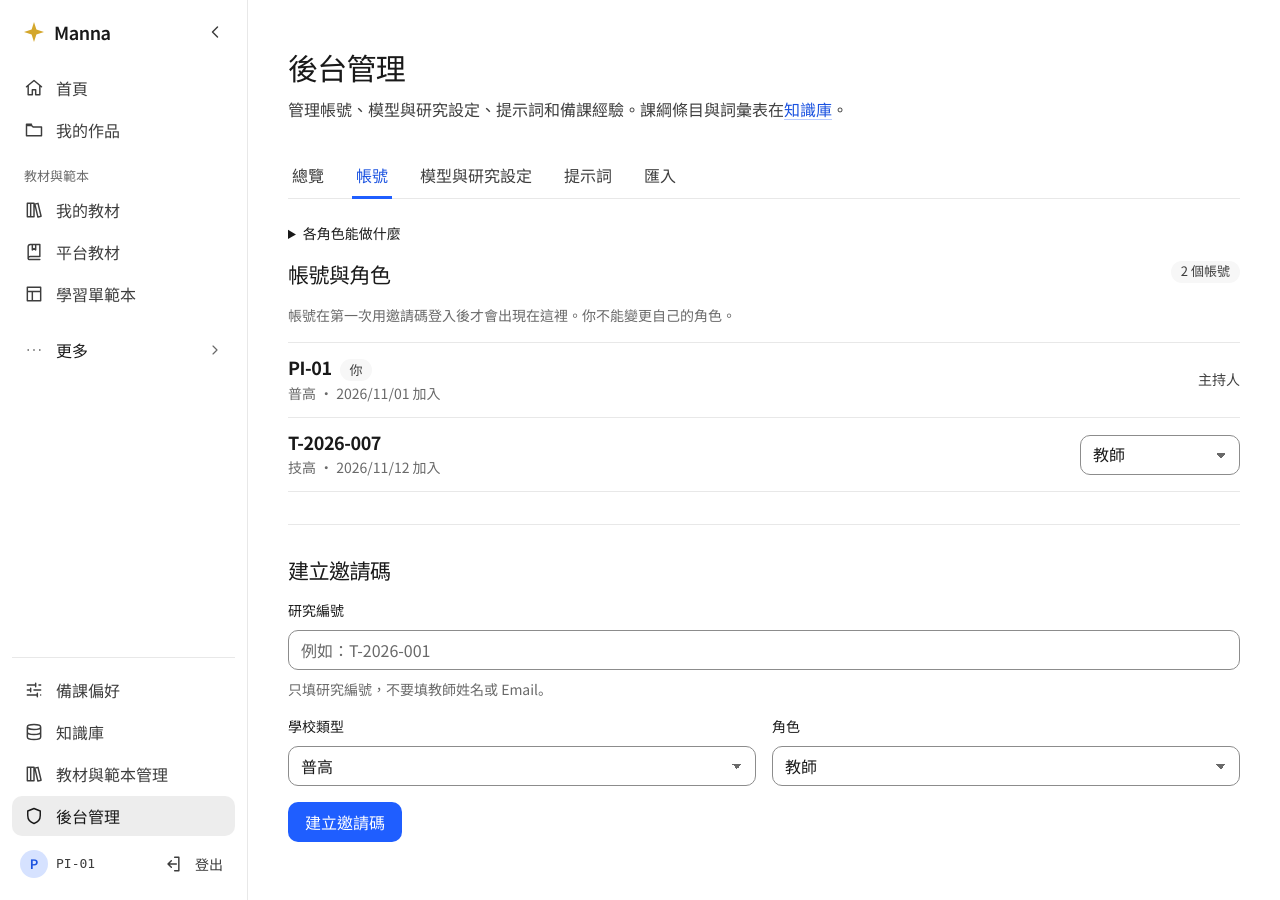
帳號與角色 (pi) › shows the server's refusal and keeps the old role
The width and height of the screenshot is (1280, 900).
Select "主持人" in the dropdown named "T-2026-007 的角色" at [1160, 455], box x1=1080 y1=435 x2=1240 y2=475
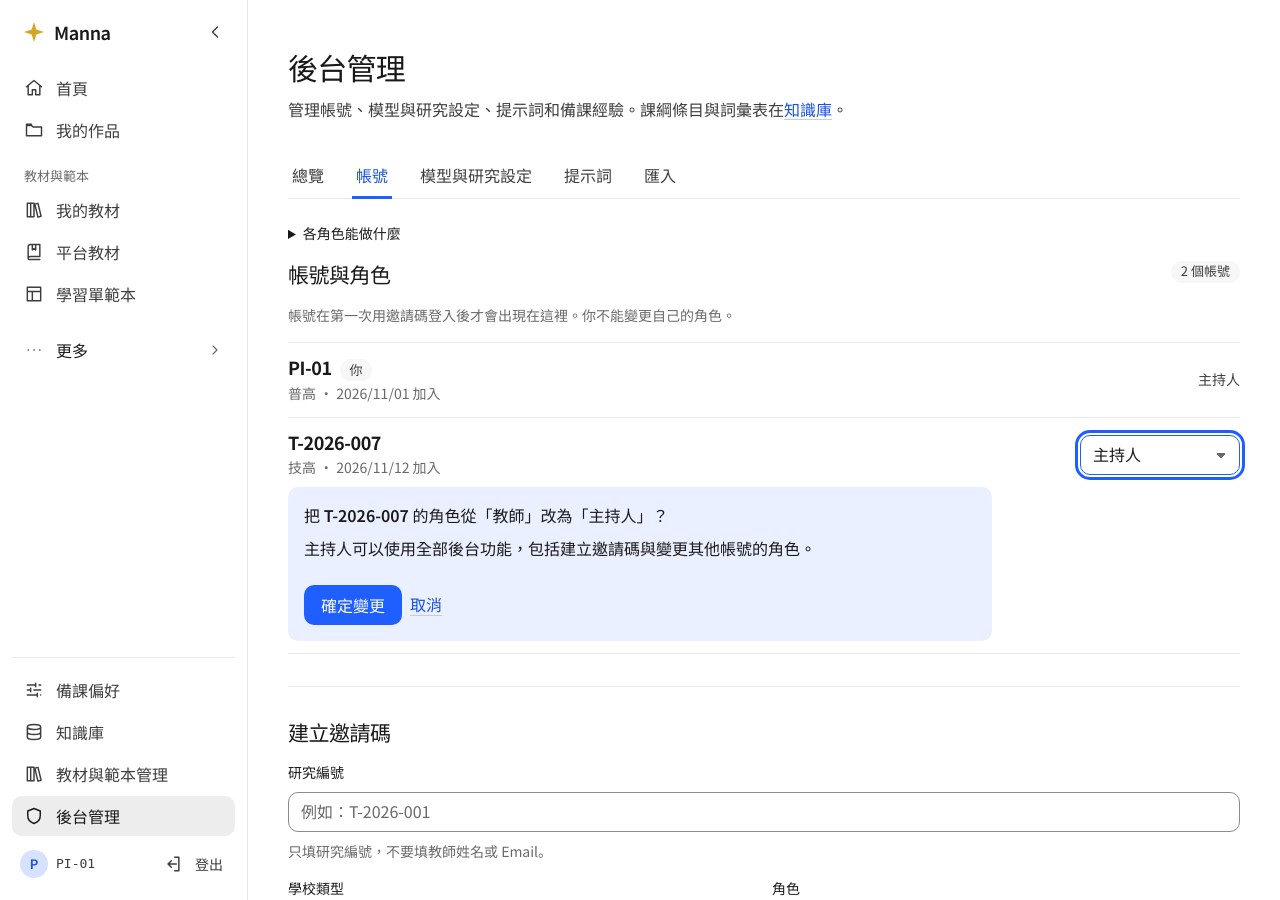
Expected: the dialog shows "主持人可以使用全部後台功能", x1=304 y1=536 x2=816 y2=560
Click the button "確定變更" at [353, 605], box x1=304 y1=585 x2=402 y2=625
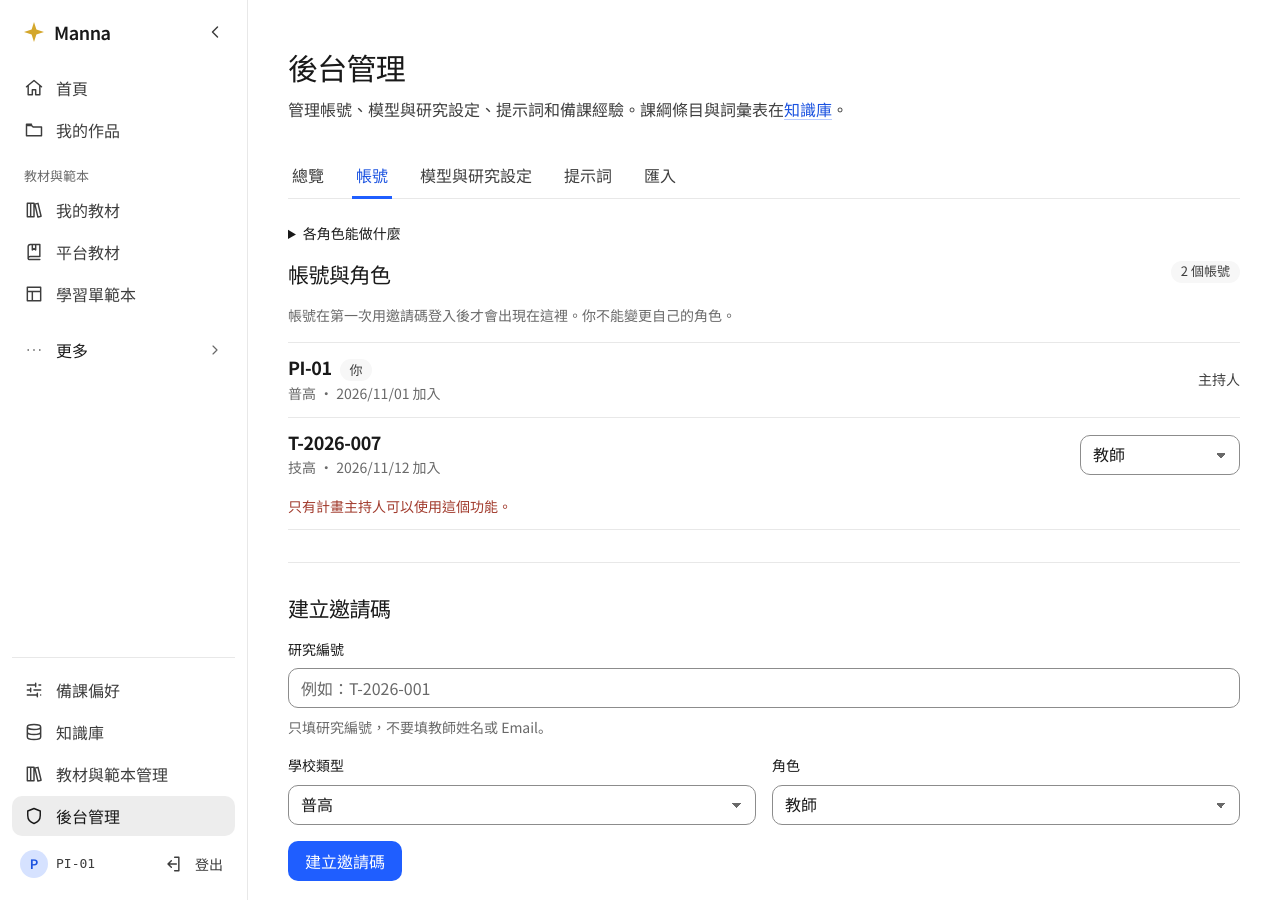
Expected: the message reads "只有計畫主持人可以使用這個功能。", x1=288 y1=496 x2=512 y2=516
